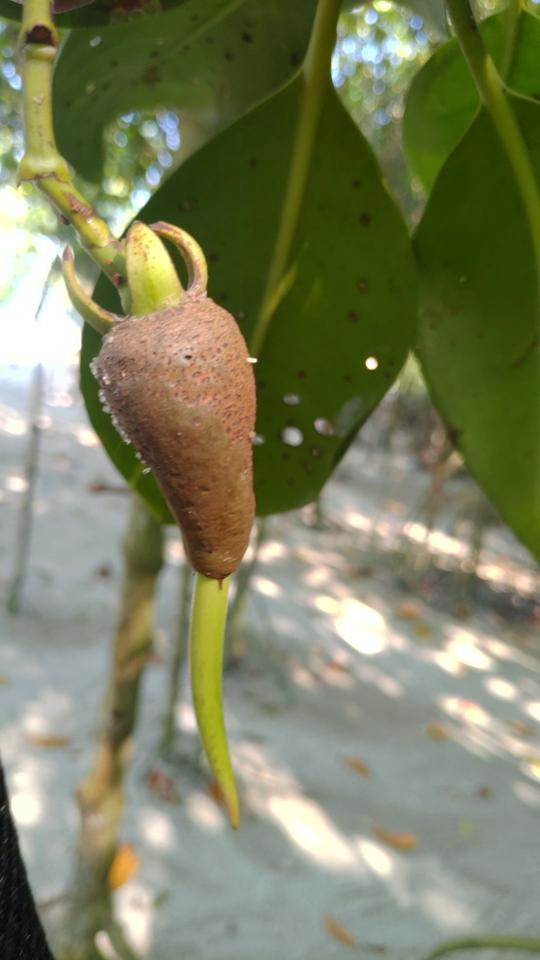mentah: (48, 208, 272, 845)
